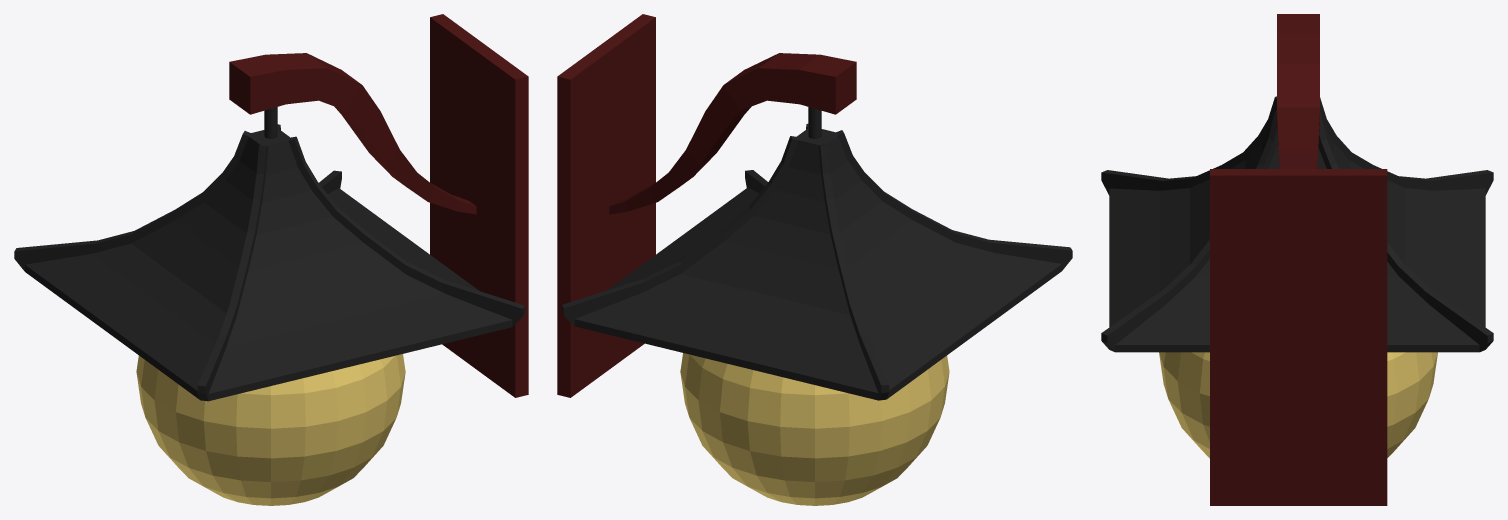
Rendered from Lamp.fbx.
3 views of the same model, side by side, from view 1: azimuth 30°, elevation 25°; view 2: azimuth 150°, elevation 25°; view 3: azimuth 270°, elevation 25° (orthographic). The views are drawn at different scales.
Parts seen in each view (by area): view 1: 立方体; view 2: 立方体; view 3: 立方体.
Part boxes in pixels (x1=…): 立方体: x1=14, y1=14, x2=528, y2=505; 立方体: x1=557, y1=14, x2=1072, y2=505; 立方体: x1=1101, y1=14, x2=1493, y2=505.
Size of the model in its own units: 326 by 354 by 281.
